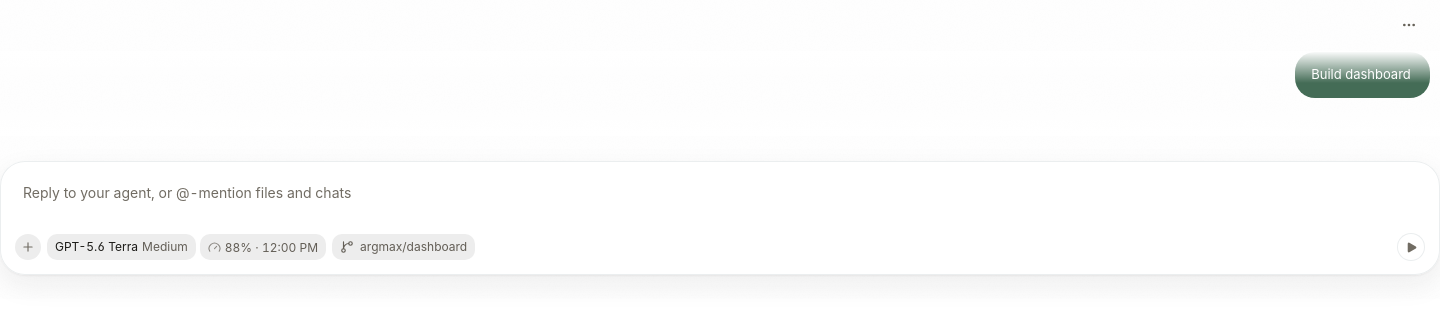
SessionConversation — tools & chrome › dismisses the session actions popover when clicking inside the conversation area
The image size is (1440, 316).
Click the button named "Chat actions" at (1409, 25), box [1398,14,1420,36]
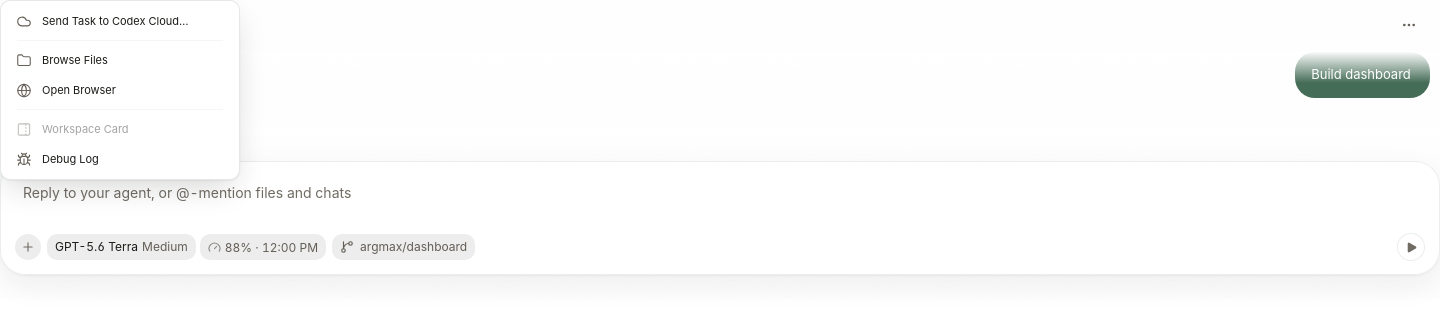
Check: the menu item "Browse Files" is shown, box [7,46,233,74]
Press the mouse on the element named "Conversation" at (720, 150), box [0,0,1439,299]
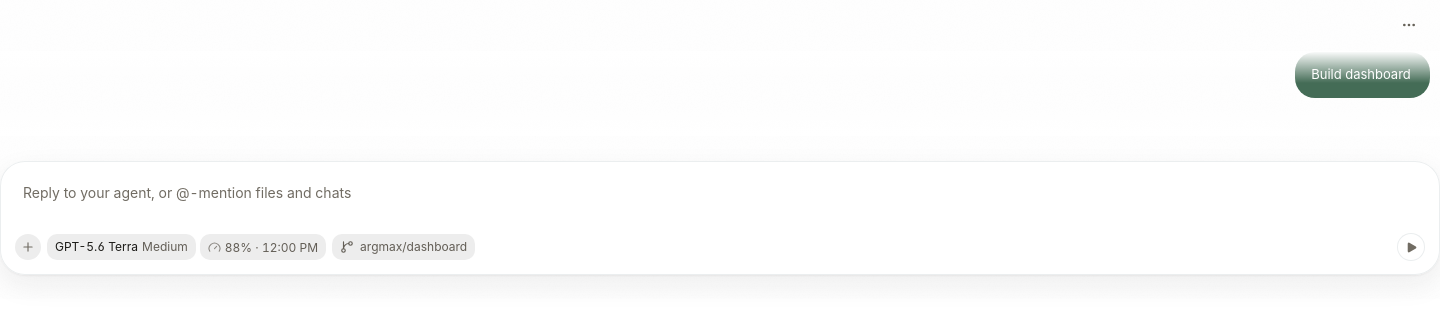
Check: the menu item "Browse Files" is gone
